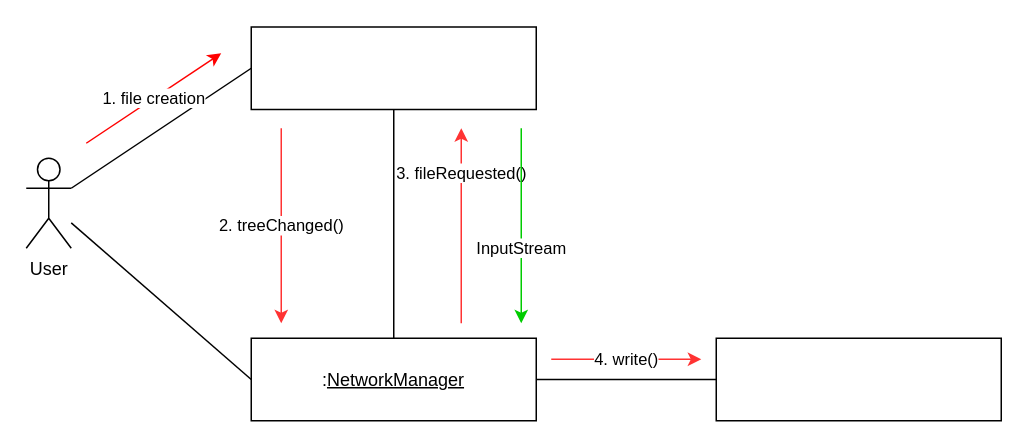
The diagram is 1028 pixels wide and 447 high, and some of its shapes have lost their labels. The centre of each missing label's shape, as x and y in pixels:
: DirectroyManager: the point at 393,68
:OutputStream: the point at 858,379
